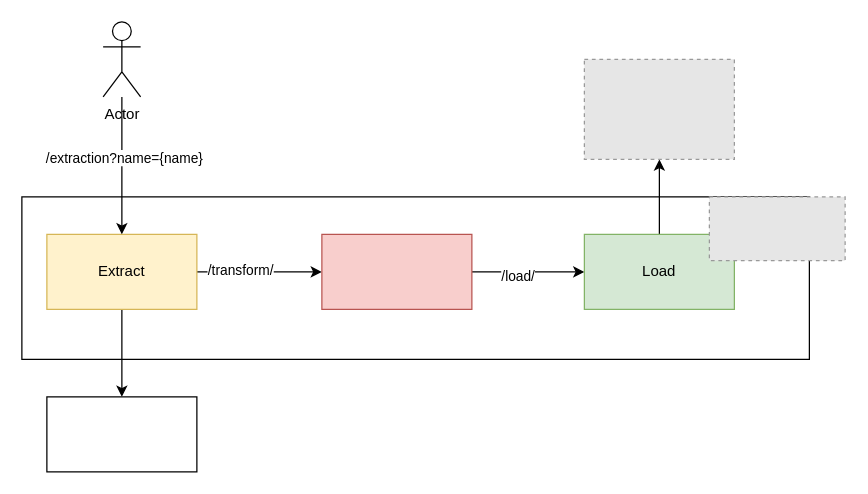
Image size: 868x494. Some labels were removed from this diagram. Grey dashed boxes stand in for pictures. The shapes that lost their labels are listed below. From the top down, each one's centre as x and y in pixels, then its label:
At pixel 396 271: "Transform".
At pixel 121 434: "PokeAPI".
